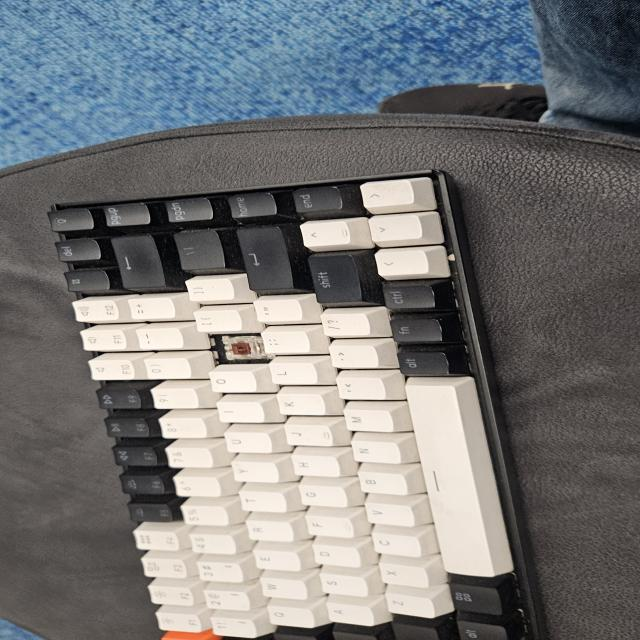C: (211, 333, 271, 363), (221, 334, 260, 366)
